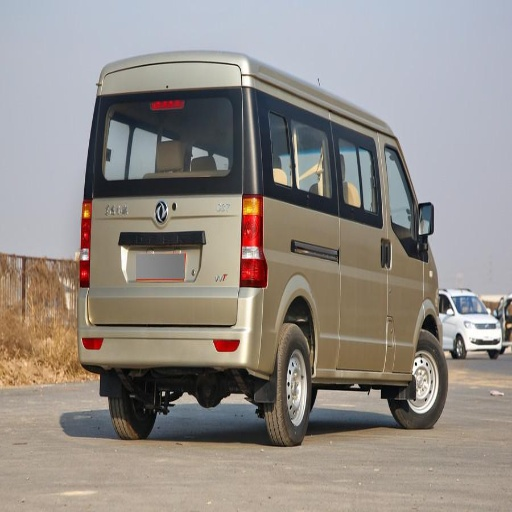back_bumper: (80, 286, 269, 369)
back_right_door: (301, 137, 383, 366)
tailgate: (90, 177, 241, 280)
trunk: (88, 195, 244, 323)
